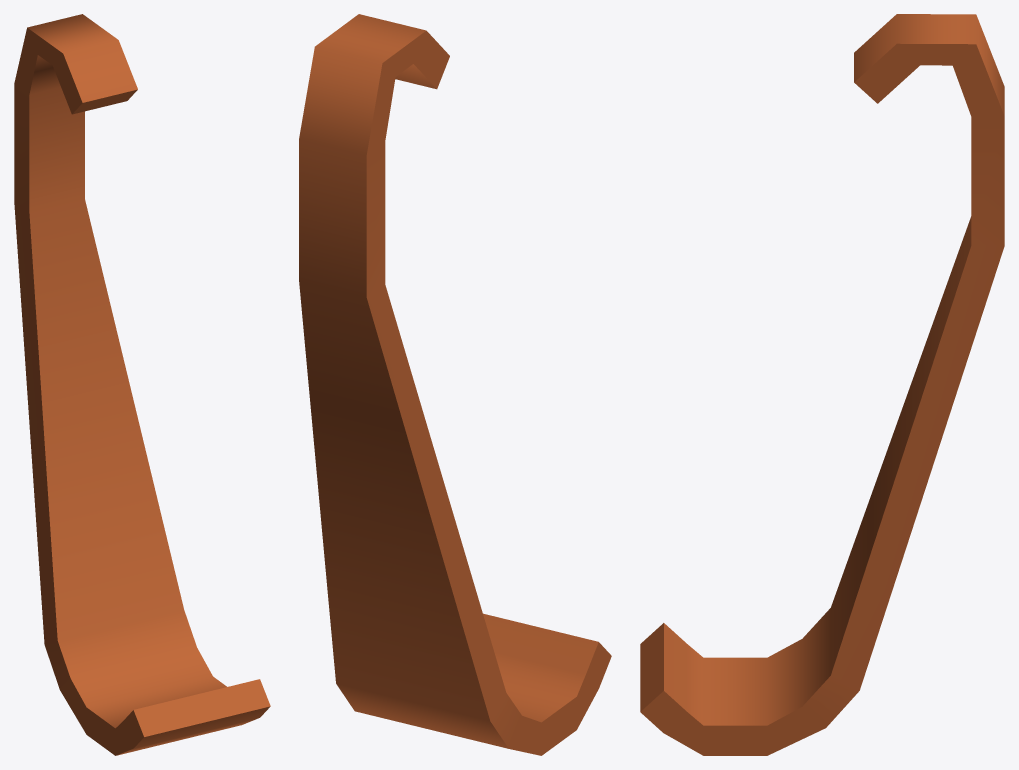
The model's file is CauldronFoot.FBX.
The picture shows the model from 3 angles, left to right: view 1: azimuth 30°, elevation 25°; view 2: azimuth 150°, elevation 25°; view 3: azimuth 270°, elevation 25°; orthographic projection. The views are drawn at different scales.
Visible parts, largest first — view 1: CauldronFoot; view 2: CauldronFoot; view 3: CauldronFoot.
Part boxes in pixels (bbox=[...]): CauldronFoot: bbox=[14, 14, 270, 755]; CauldronFoot: bbox=[299, 14, 611, 755]; CauldronFoot: bbox=[640, 14, 1004, 755].
Bounding box in the file's own units: 13.34 × 30.22 × 63.4.
